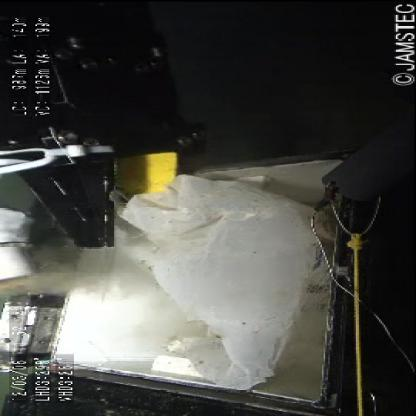Rov: (1, 0, 218, 380)
Rác: (115, 149, 332, 395)
